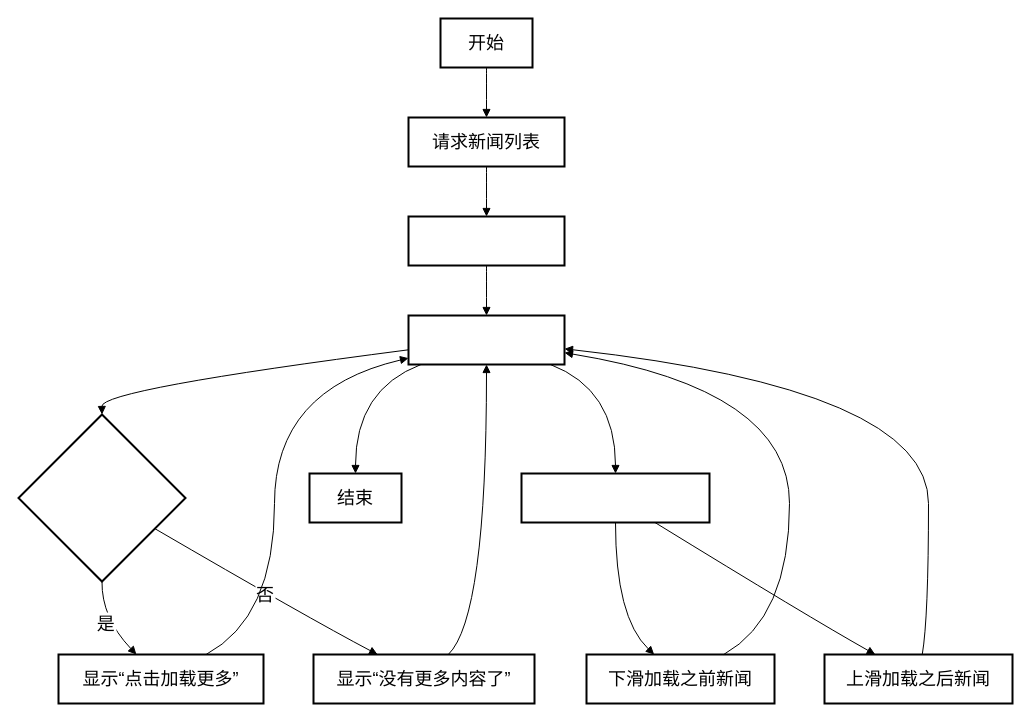
Some shapes in this 1030 by 721 pixel diagram are drawn without their labels. Each missing label, with the centre of its shape:
"展示新闻列表" belongs at (486,339).
"是否有更多新闻?" belongs at (101,497).
"用户浏览新闻摘要" belongs at (615,497).
"获取新闻数据" belongs at (486,240).
